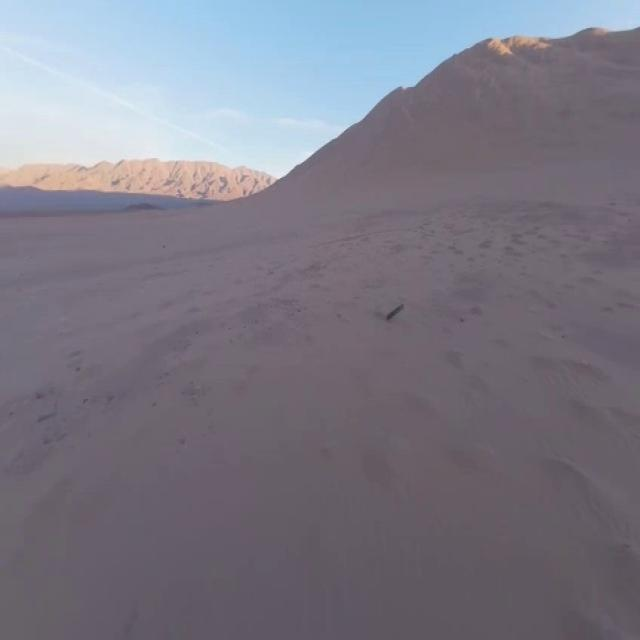Tire: (387, 304, 404, 319)
